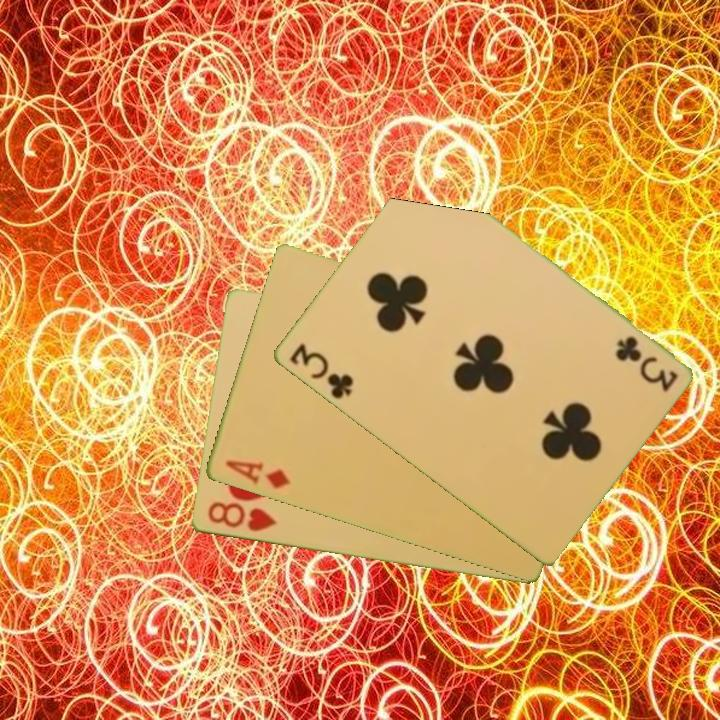3c: (285, 339, 356, 402), (611, 332, 681, 394)
8h: (204, 498, 279, 535)
Ad: (221, 456, 292, 492)
